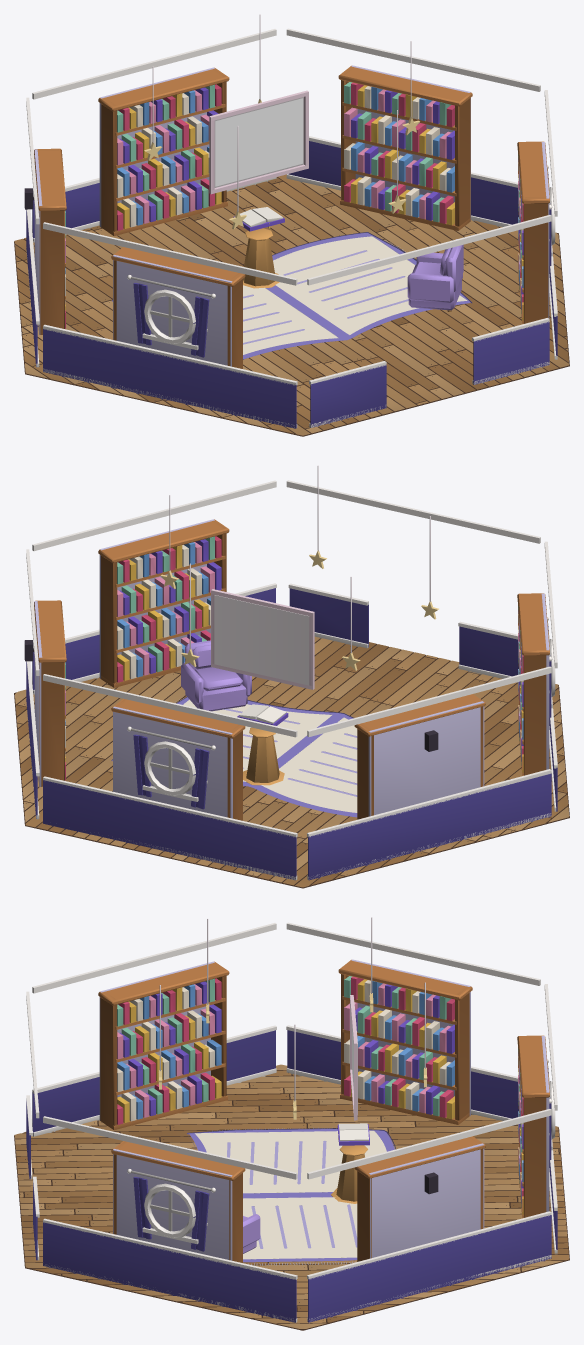
The model's file is zon_room_poems_lite.glb.
3 views of the same model, one above another, from view 1: azimuth 30°, elevation 25°; view 2: azimuth 150°, elevation 25°; view 3: azimuth 270°, elevation 25° (orthographic).
Visible parts, largest first — view 1: SM_zon_room_poems_lite_room_floor_plaster_xm1_zm1, SM_zon_room_poems_lite_room_floor_wood_xm1_zm1, SM_zon_room_poems_lite_room_rug_fabric_xm1_zm1, SCREEN_fur_screen_poems__0, SM_zon_room_poems_lite_room_floor_fabric_x0_zm1, ANIM_fur_bookstand_poems_lite_book__0; view 2: SM_zon_room_poems_lite_room_floor_plaster_xm1_zm1, SM_zon_room_poems_lite_room_floor_wood_xm1_zm1, SM_zon_room_poems_lite_room_rug_fabric_xm1_zm1, SM_zon_room_poems_lite_room_floor_fabric_x0_zm1, ANIM_fur_bookstand_poems_lite_book__0; view 3: SM_zon_room_poems_lite_room_floor_plaster_xm1_zm1, SM_zon_room_poems_lite_room_floor_wood_xm1_zm1, SM_zon_room_poems_lite_room_rug_fabric_xm1_zm1, ANIM_fur_bookstand_poems_lite_book__0, SM_zon_room_poems_lite_room_floor_fabric_x0_zm1.
Part boxes in pixels (left/top/right/bottom): SM_zon_room_poems_lite_room_floor_plaster_xm1_zm1: left=24, top=14, right=557, bottom=428; SM_zon_room_poems_lite_room_floor_wood_xm1_zm1: left=14, top=65, right=569, bottom=436; SM_zon_room_poems_lite_room_rug_fabric_xm1_zm1: left=112, top=232, right=472, bottom=359; SCREEN_fur_screen_poems__0: left=215, top=98, right=302, bottom=186; SM_zon_room_poems_lite_room_floor_fabric_x0_zm1: left=407, top=239, right=463, bottom=310; ANIM_fur_bookstand_poems_lite_book__0: left=233, top=207, right=284, bottom=231; SM_zon_room_poems_lite_room_floor_plaster_xm1_zm1: left=24, top=465, right=557, bottom=880; SM_zon_room_poems_lite_room_floor_wood_xm1_zm1: left=14, top=519, right=569, bottom=888; SM_zon_room_poems_lite_room_rug_fabric_xm1_zm1: left=111, top=697, right=357, bottom=817; SM_zon_room_poems_lite_room_floor_fabric_x0_zm1: left=181, top=640, right=251, bottom=711; ANIM_fur_bookstand_poems_lite_book__0: left=237, top=704, right=288, bottom=725; SM_zon_room_poems_lite_room_floor_plaster_xm1_zm1: left=26, top=917, right=557, bottom=1323; SM_zon_room_poems_lite_room_floor_wood_xm1_zm1: left=14, top=959, right=569, bottom=1330; SM_zon_room_poems_lite_room_rug_fabric_xm1_zm1: left=187, top=1127, right=395, bottom=1265; ANIM_fur_bookstand_poems_lite_book__0: left=337, top=1123, right=369, bottom=1145; SM_zon_room_poems_lite_room_floor_fabric_x0_zm1: left=243, top=1214, right=260, bottom=1253.
Bounding box in the file's own units: 12.19 × 4.99 × 10.77.
